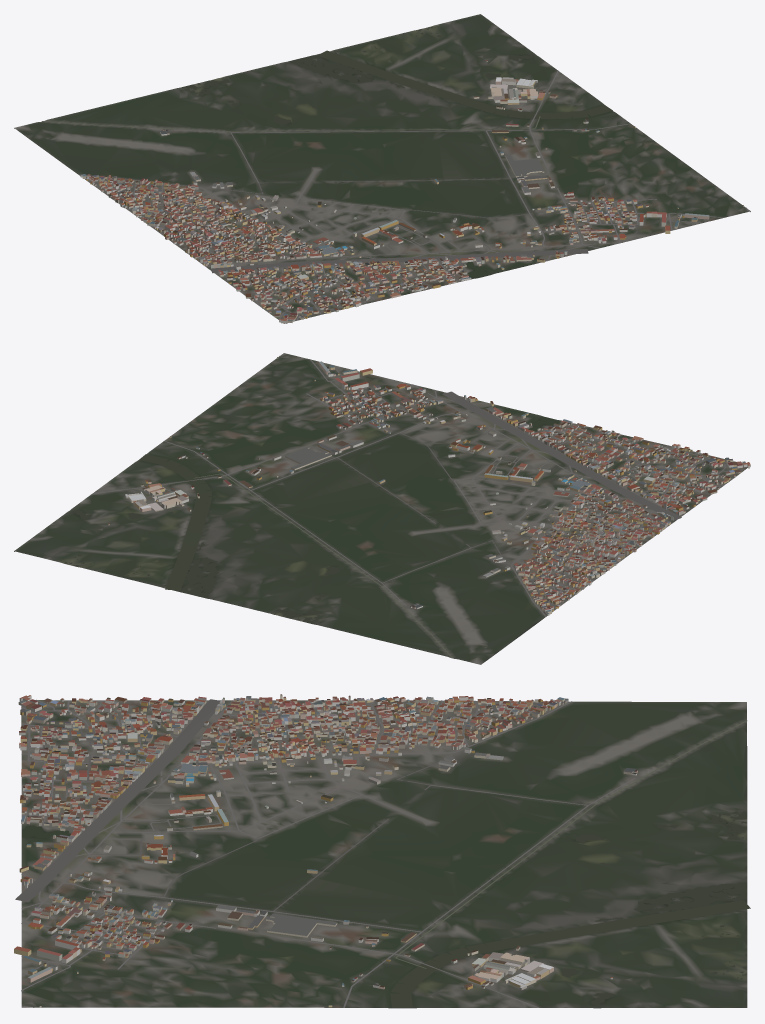
The picture shows the model from 3 angles, top to bottom: view 1: azimuth 30°, elevation 25°; view 2: azimuth 150°, elevation 25°; view 3: azimuth 270°, elevation 25°; orthographic projection. The views are drawn at different scales.
Parts seen in each view (by area): view 1: ground, buildings, roads, water; view 2: ground, buildings, roads, water; view 3: ground, buildings, roads, water.
Boxes of the visible parts, x1=… form: ground: x1=14, y1=14, x2=750, y2=323; buildings: x1=80, y1=60, x2=743, y2=323; roads: x1=79, y1=70, x2=748, y2=320; water: x1=42, y1=26, x2=612, y2=277; ground: x1=14, y1=353, x2=750, y2=664; buildings: x1=108, y1=357, x2=750, y2=615; roads: x1=91, y1=353, x2=745, y2=616; water: x1=59, y1=416, x2=557, y2=658; ground: x1=21, y1=700, x2=747, y2=1008; buildings: x1=14, y1=694, x2=637, y2=1007; roads: x1=15, y1=699, x2=635, y2=1007; water: x1=22, y1=720, x2=750, y2=1007.
Size of the model in its own units: 1408 by 22.36 by 1424.
